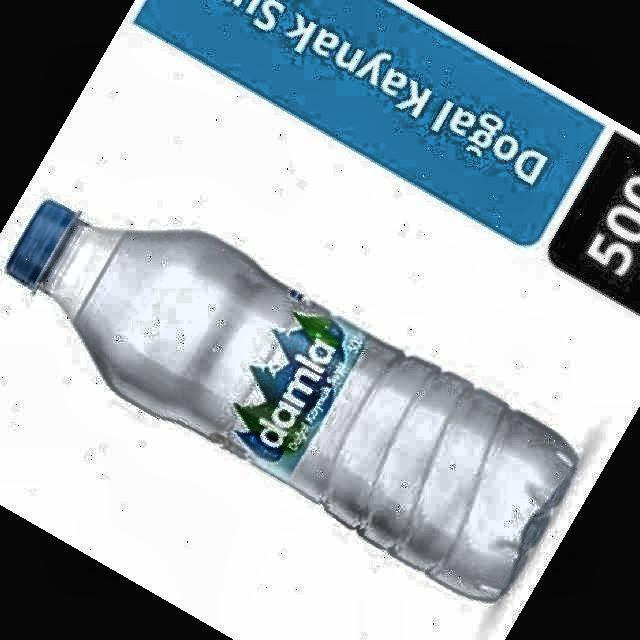plastic: (8, 201, 575, 599)
